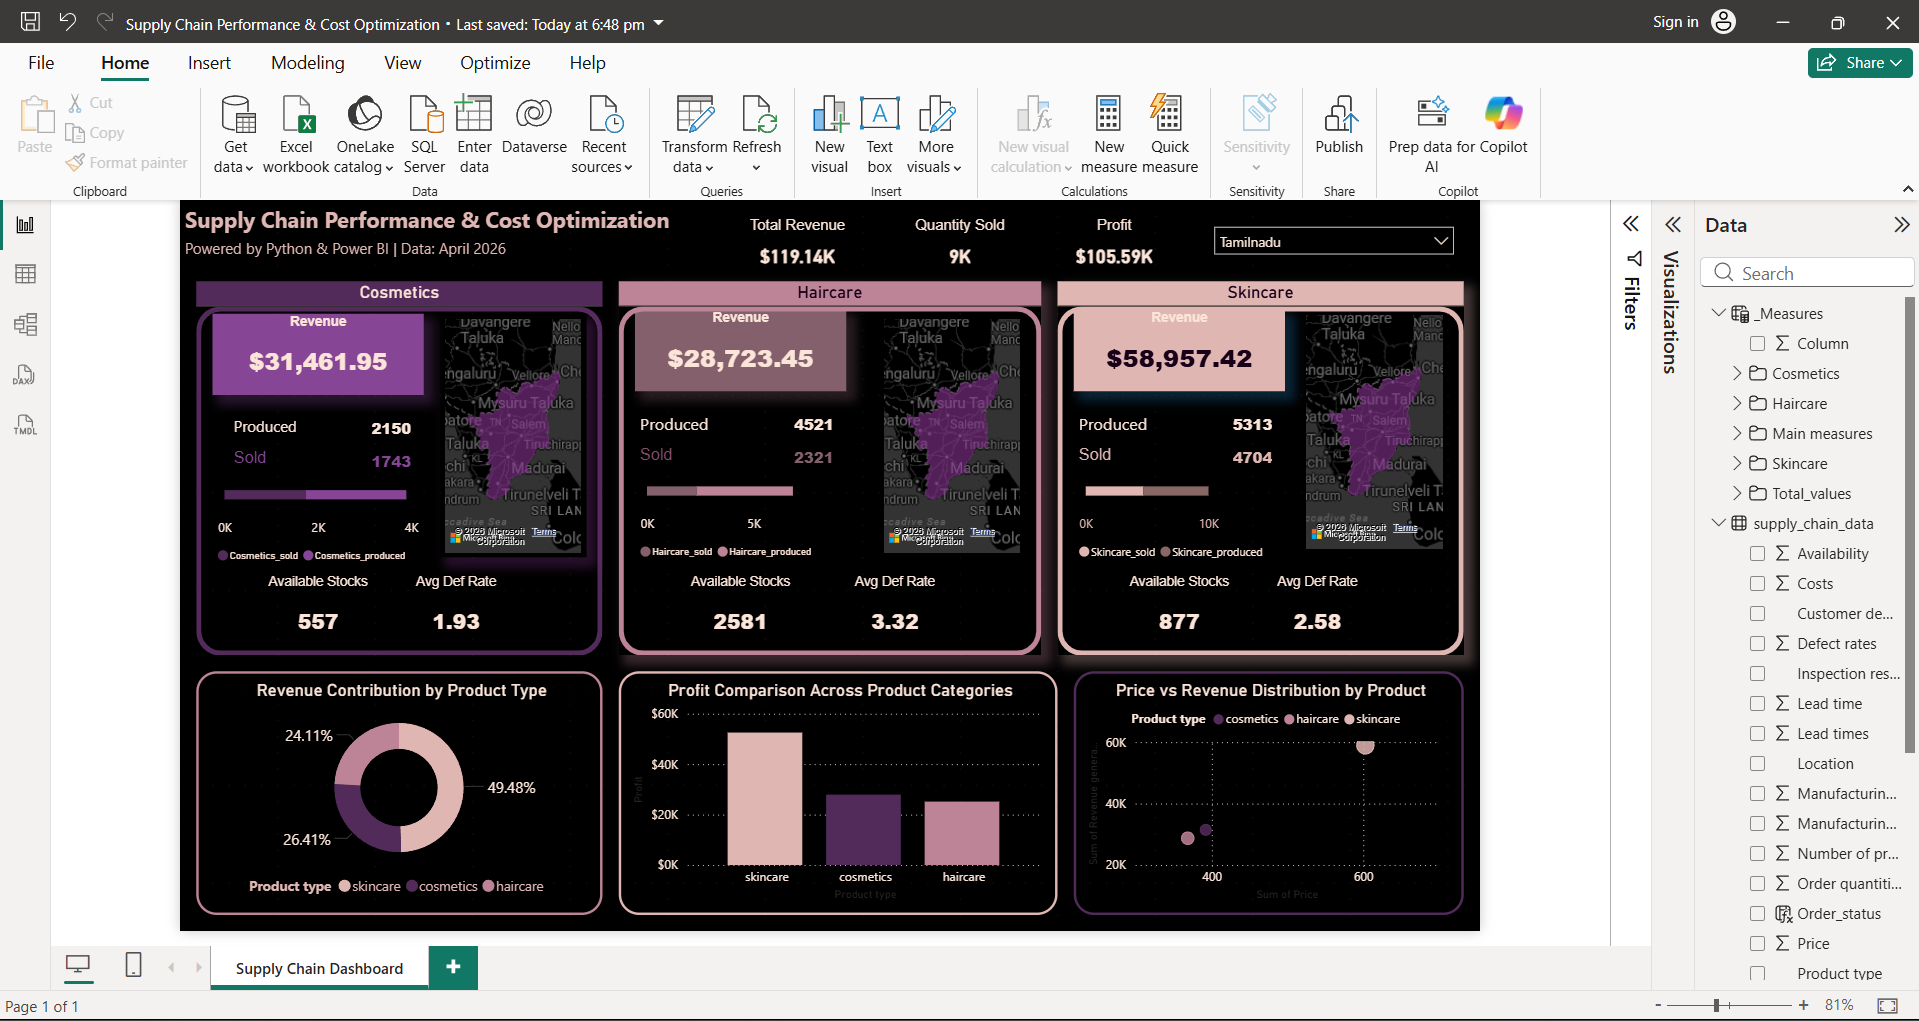

The page's visual inventory and layout, read from the dashboard file:
{"tool":"powerbi","page":{"name":"Supply Chain Dashboard","canvas":[1280,720],"ordinal":0},"visuals":[{"type":"textbox","box":[0,0,496,48],"z":0},{"type":"textbox","box":[0,32,336,48],"z":1000},{"type":"cardVisual","title":"Total Revenue","fields":{"Data":["_Measures.Total_revenue"]},"box":[512,16,192,64],"z":2000},{"type":"cardVisual","title":"Quantity Sold","fields":{"Data":["_Measures.Total_quantity_sold"]},"box":[672,16,192,64],"z":3000},{"type":"cardVisual","title":"Revenue","fields":{"Data":["_Measures.Cosmetics_revenue"]},"box":[32,112,208,80],"z":4000},{"type":"cardVisual","title":"Revenue","fields":{"Data":["_Measures.Haircare_revenue"]},"box":[448,108.5,208,80],"z":5000},{"type":"cardVisual","title":"Revenue","fields":{"Data":["_Measures.Skincare_revenue"]},"box":[880,108.5,208,80],"z":6000},{"type":"cardVisual","title":"Total Revenue","fields":{"Data":["_Measures.Cosmetics_produced"]},"box":[160,192,96,64],"z":7000},{"type":"cardVisual","title":"Total Revenue","fields":{"Data":["_Measures.Haircare_produced"]},"box":[576,188.5,96,64],"z":8000},{"type":"cardVisual","title":"Total Revenue","fields":{"Data":["_Measures.Skincare_produced"]},"box":[1008,188.5,96,64],"z":9000},{"type":"cardVisual","title":"Total Revenue","fields":{"Data":["_Measures.Cosmetics_sold"]},"box":[160,224,96,64],"z":10000},{"type":"cardVisual","title":"Total Revenue","fields":{"Data":["_Measures.Skincare_sold"]},"box":[1008,220.5,96,64],"z":11000},{"type":"cardVisual","title":"Total Revenue","fields":{"Data":["_Measures.Haircare_sold"]},"box":[576,220.5,96,64],"z":12000},{"type":"textbox","box":[48,208,80,32],"z":13000},{"type":"textbox","box":[48,240,80,32],"z":14000},{"type":"textbox","box":[448,204.5,80,32],"z":15000},{"type":"textbox","box":[880,204.5,80,32],"z":16000},{"type":"textbox","box":[448,236.5,80,32],"z":17000},{"type":"textbox","box":[880,236.5,64,32],"z":18000},{"type":"cardVisual","title":"Available Stocks","fields":{"Data":["_Measures.Cosmetics_avialble_stock"]},"box":[80,368,112,80],"z":19000},{"type":"cardVisual","title":"Available Stocks","fields":{"Data":["_Measures.Haircare_avialble_stock"]},"box":[496,367.5,112,80],"z":20000},{"type":"cardVisual","title":"Available Stocks","fields":{"Data":["_Measures.Skincare_avialble_stock"]},"box":[928,367.5,112,80],"z":21000},{"type":"cardVisual","title":"Avg Def Rate","fields":{"Data":["_Measures.Cosmetics_avg_defect_rate"]},"box":[224,368,96,80],"z":22000},{"type":"cardVisual","title":"Avg Def Rate","fields":{"Data":["_Measures.Skincare_avg_defect_rate"]},"box":[1072,367.5,96,80],"z":23000},{"type":"cardVisual","title":"Avg Def Rate","fields":{"Data":["_Measures.Haircare_avg_defect_rate"]},"box":[656,368,96,80],"z":24000},{"type":"shape","title":"Cosmetics","box":[16,80,400,368],"z":25000},{"type":"shape","title":"Haircare","box":[432,80,416,368],"z":26000},{"type":"shape","title":"Skincare","box":[864,80,400,368],"z":27000},{"type":"barChart","fields":{"Y":["_Measures.Cosmetics_sold","_Measures.Cosmetics_produced"]},"box":[32,256,208,112],"z":28000},{"type":"barChart","fields":{"Y":["_Measures.Haircare_sold","_Measures.Haircare_produced"]},"box":[448,252.5,192,112],"z":29000},{"type":"barChart","fields":{"Y":["_Measures.Skincare_sold","_Measures.Skincare_produced"]},"box":[880,252.5,208,112],"z":30000},{"type":"filledMap","fields":{"Category":["supply_chain_data.State"],"Series":["supply_chain_data.Product type"]},"box":[256,112,144,240],"z":31000},{"type":"filledMap","fields":{"Category":["supply_chain_data.State"],"Series":["supply_chain_data.Product type"]},"box":[688,112,144,240],"z":32000},{"type":"filledMap","fields":{"Category":["supply_chain_data.State"],"Series":["supply_chain_data.Product type"]},"box":[1104,108.5,144,240],"z":33000},{"type":"columnChart","title":"Profit Comparison Across Product Categories","fields":{"Category":["supply_chain_data.Product type"],"Y":["_Measures.Profit"]},"box":[432,464,432,240],"z":34000},{"type":"scatterChart","title":"Price vs Revenue Distribution by Product","fields":{"X":["Sum(supply_chain_data.Price)"],"Y":["Sum(supply_chain_data.Revenue generated)"],"Size":["_Measures.Total_quantity_sold"],"Series":["supply_chain_data.Product type"]},"box":[880,464,384,240],"z":35000},{"type":"donutChart","title":"Revenue Contribution by Product Type","fields":{"Y":["_Measures.Total_revenue"],"Category":["supply_chain_data.Product type"]},"box":[16,464,400,240],"z":36000},{"type":"cardVisual","title":"Profit","fields":{"Data":["_Measures.Profit"]},"box":[864,16,112,64],"z":37000},{"type":"slicer","fields":{"Values":["supply_chain_data.State","supply_chain_data.Product type"]},"box":[1008,16,256,48],"z":38000}]}

Visuals, with their boxes on the page's 1280x720 design canvas (x1, y1, x2, y2). These are canvas units, not pixel positions in the 1919x1021 screenshot, which may show the page scaled, cropped or inside an application window:
textbox: (left=0, top=0, right=496, bottom=48)
textbox: (left=0, top=32, right=336, bottom=80)
"Total Revenue" cardVisual: (left=512, top=16, right=704, bottom=80)
"Quantity Sold" cardVisual: (left=672, top=16, right=864, bottom=80)
"Revenue" cardVisual: (left=32, top=112, right=240, bottom=192)
"Revenue" cardVisual: (left=448, top=108, right=656, bottom=188)
"Revenue" cardVisual: (left=880, top=108, right=1088, bottom=188)
"Total Revenue" cardVisual: (left=160, top=192, right=256, bottom=256)
"Total Revenue" cardVisual: (left=576, top=188, right=672, bottom=252)
"Total Revenue" cardVisual: (left=1008, top=188, right=1104, bottom=252)
"Total Revenue" cardVisual: (left=160, top=224, right=256, bottom=288)
"Total Revenue" cardVisual: (left=1008, top=220, right=1104, bottom=284)
"Total Revenue" cardVisual: (left=576, top=220, right=672, bottom=284)
textbox: (left=48, top=208, right=128, bottom=240)
textbox: (left=48, top=240, right=128, bottom=272)
textbox: (left=448, top=204, right=528, bottom=236)
textbox: (left=880, top=204, right=960, bottom=236)
textbox: (left=448, top=236, right=528, bottom=268)
textbox: (left=880, top=236, right=944, bottom=268)
"Available Stocks" cardVisual: (left=80, top=368, right=192, bottom=448)
"Available Stocks" cardVisual: (left=496, top=368, right=608, bottom=448)
"Available Stocks" cardVisual: (left=928, top=368, right=1040, bottom=448)
"Avg Def Rate" cardVisual: (left=224, top=368, right=320, bottom=448)
"Avg Def Rate" cardVisual: (left=1072, top=368, right=1168, bottom=448)
"Avg Def Rate" cardVisual: (left=656, top=368, right=752, bottom=448)
"Cosmetics" shape: (left=16, top=80, right=416, bottom=448)
"Haircare" shape: (left=432, top=80, right=848, bottom=448)
"Skincare" shape: (left=864, top=80, right=1264, bottom=448)
barChart - _Measures.Cosmetics_sold x _Measures.Cosmetics_produced: (left=32, top=256, right=240, bottom=368)
barChart - _Measures.Haircare_sold x _Measures.Haircare_produced: (left=448, top=252, right=640, bottom=364)
barChart - _Measures.Skincare_sold x _Measures.Skincare_produced: (left=880, top=252, right=1088, bottom=364)
filledMap - supply_chain_data.State x supply_chain_data.Product type: (left=256, top=112, right=400, bottom=352)
filledMap - supply_chain_data.State x supply_chain_data.Product type: (left=688, top=112, right=832, bottom=352)
filledMap - supply_chain_data.State x supply_chain_data.Product type: (left=1104, top=108, right=1248, bottom=348)
"Profit Comparison Across Product Categories" columnChart: (left=432, top=464, right=864, bottom=704)
"Price vs Revenue Distribution by Product" scatterChart: (left=880, top=464, right=1264, bottom=704)
"Revenue Contribution by Product Type" donutChart: (left=16, top=464, right=416, bottom=704)
"Profit" cardVisual: (left=864, top=16, right=976, bottom=80)
slicer - supply_chain_data.State x supply_chain_data.Product type: (left=1008, top=16, right=1264, bottom=64)
